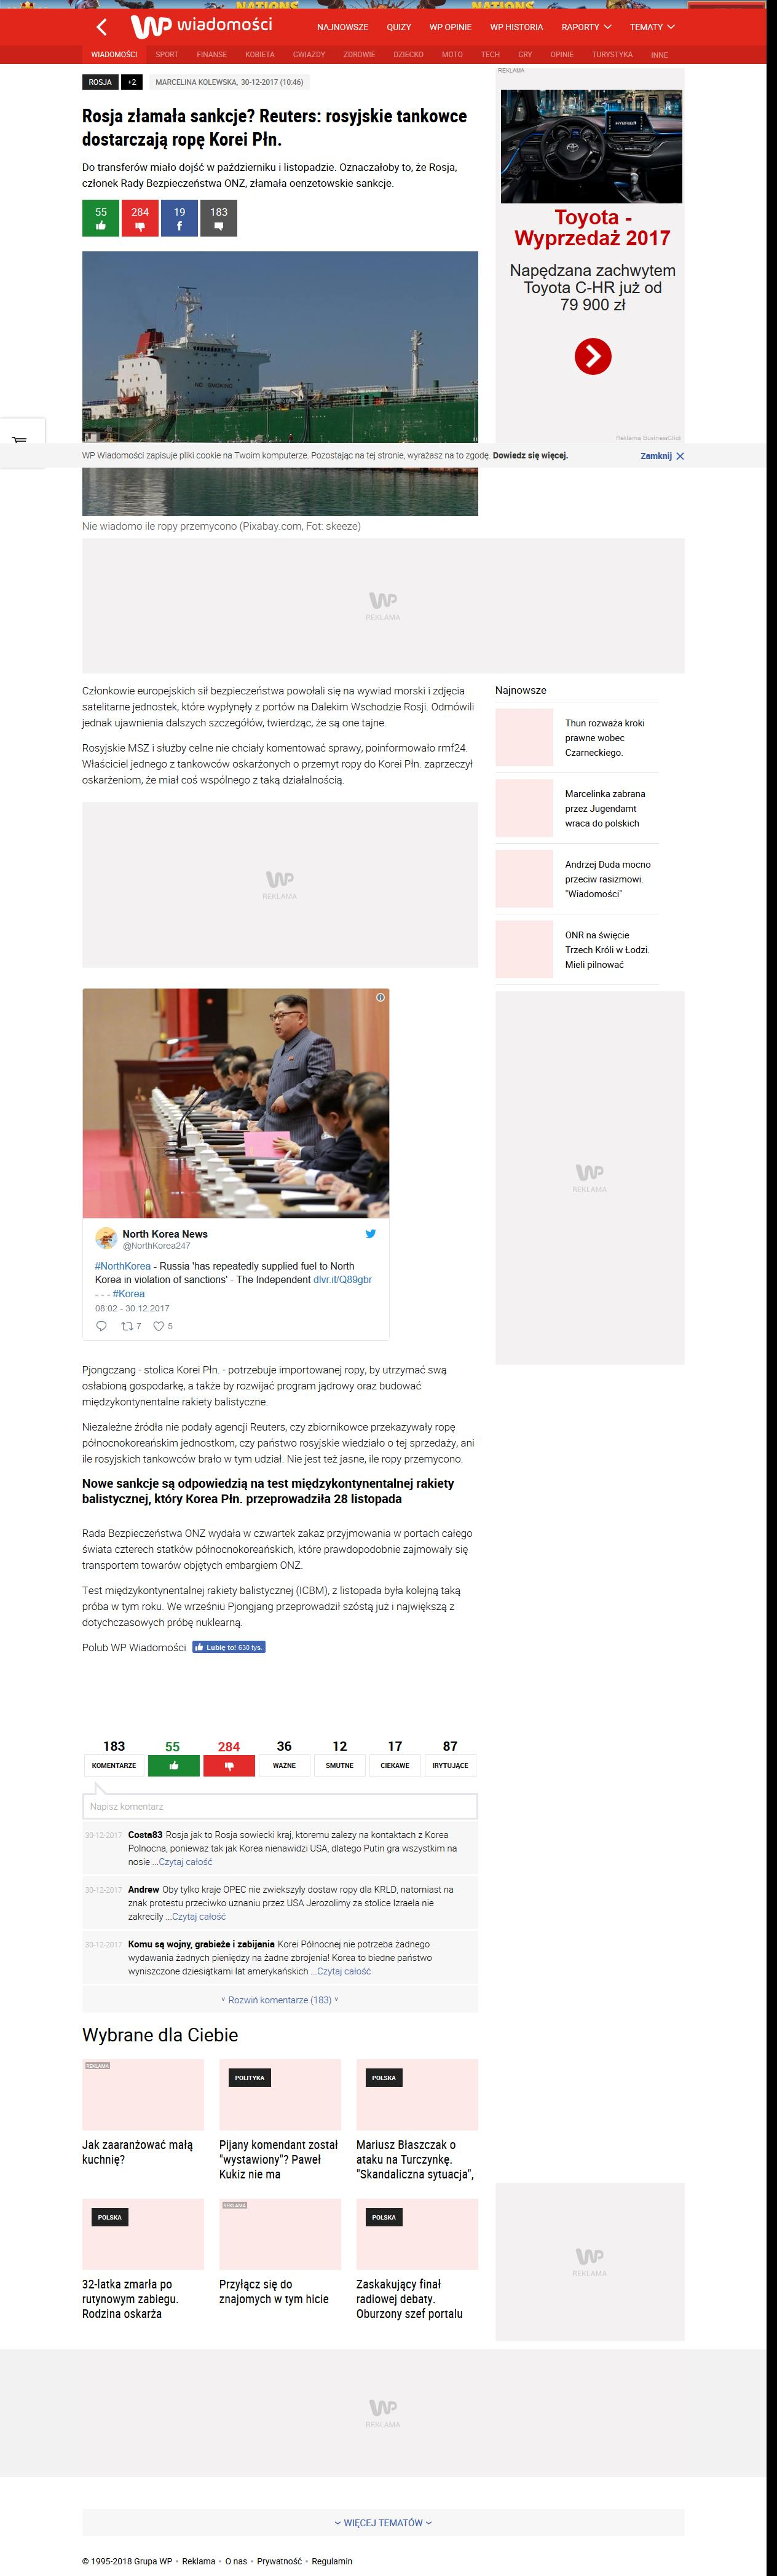title: (82, 107, 468, 149)
